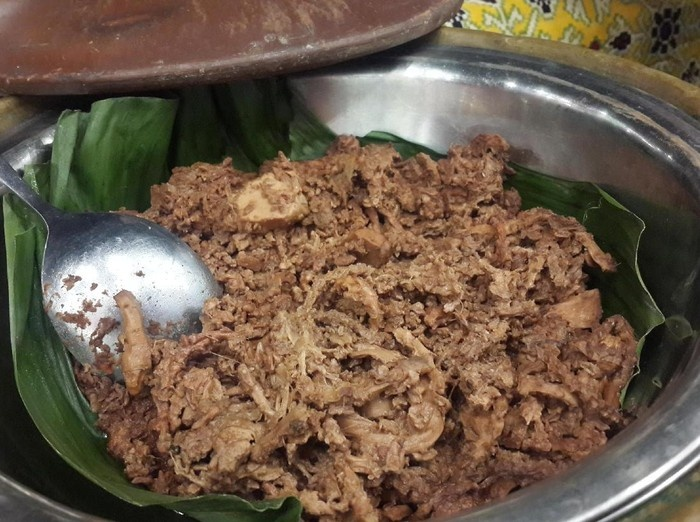gudeg: (71, 144, 601, 482)
